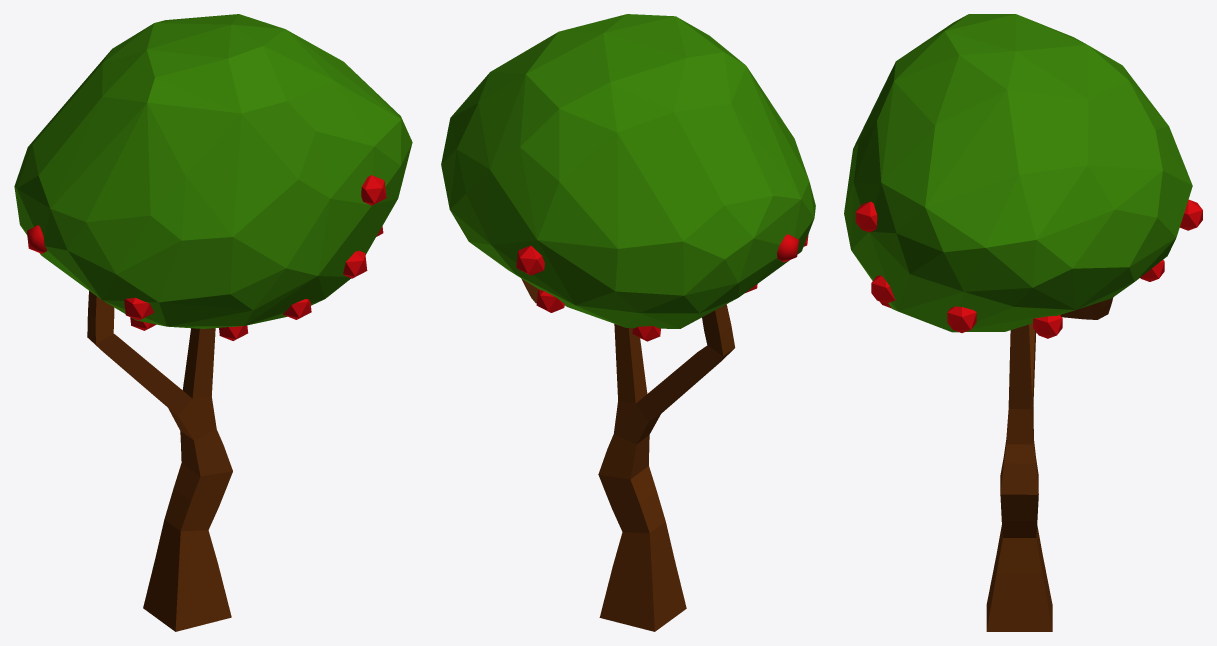
File: AppleTree.fbx
3 views of the same model, side by side, from view 1: azimuth 30°, elevation 25°; view 2: azimuth 150°, elevation 25°; view 3: azimuth 270°, elevation 25° (orthographic). The views are drawn at different scales.
Parts seen in each view (by area): view 1: AppleTree; view 2: AppleTree; view 3: AppleTree.
Part boxes in pixels (bbox=[...]): AppleTree: bbox=[14, 14, 412, 631]; AppleTree: bbox=[441, 14, 815, 631]; AppleTree: bbox=[844, 14, 1202, 631].
Size of the model in its own units: 10.26 by 16.06 by 8.87.
